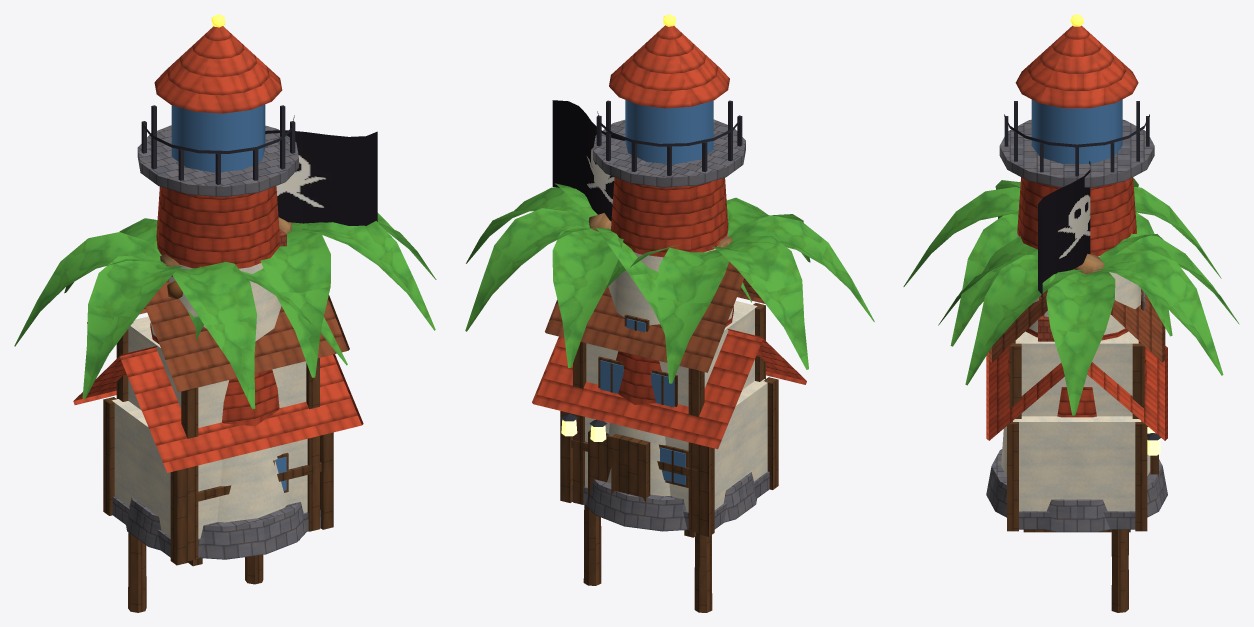
Rendered from props.glb.
The picture shows the model from 3 angles, left to right: view 1: azimuth 30°, elevation 25°; view 2: azimuth 150°, elevation 25°; view 3: azimuth 270°, elevation 25°; orthographic projection. The views are drawn at different scales.
Visible parts, largest first — view 1: Lighthouse, House_0, Palm_1, House_1, Palm_0, FlagPirate, Dock; view 2: Lighthouse, House_0, Palm_1, House_1, Palm_0, FlagPirate, Dock; view 3: Lighthouse, House_0, Palm_0, House_1, Palm_1, FlagPirate, Dock.
Boxes of the visible parts, <box> form: Lighthouse: <box>126,14,306,559</box>; House_0: <box>73,346,363,565</box>; Palm_1: <box>14,218,347,409</box>; House_1: <box>87,229,349,561</box>; Palm_0: <box>187,213,436,377</box>; FlagPirate: <box>265,130,377,225</box>; Dock: <box>128,532,299,612</box>; Lighthouse: <box>585,14,756,531</box>; House_0: <box>532,328,806,536</box>; Palm_1: <box>605,197,874,383</box>; House_1: <box>545,261,765,532</box>; Palm_0: <box>465,183,751,367</box>; FlagPirate: <box>552,100,625,220</box>; Dock: <box>583,505,712,612</box>; Lighthouse: <box>986,14,1167,532</box>; House_0: <box>986,316,1167,531</box>; Palm_0: <box>938,233,1239,415</box>; House_1: <box>989,289,1165,433</box>; Palm_1: <box>903,178,1221,346</box>; FlagPirate: <box>1038,161,1090,297</box>; Dock: <box>1023,529,1130,612</box>.
Bounding box in the file's own units: 8.05 × 11.72 × 6.29.
21 materials, 16 textured.
